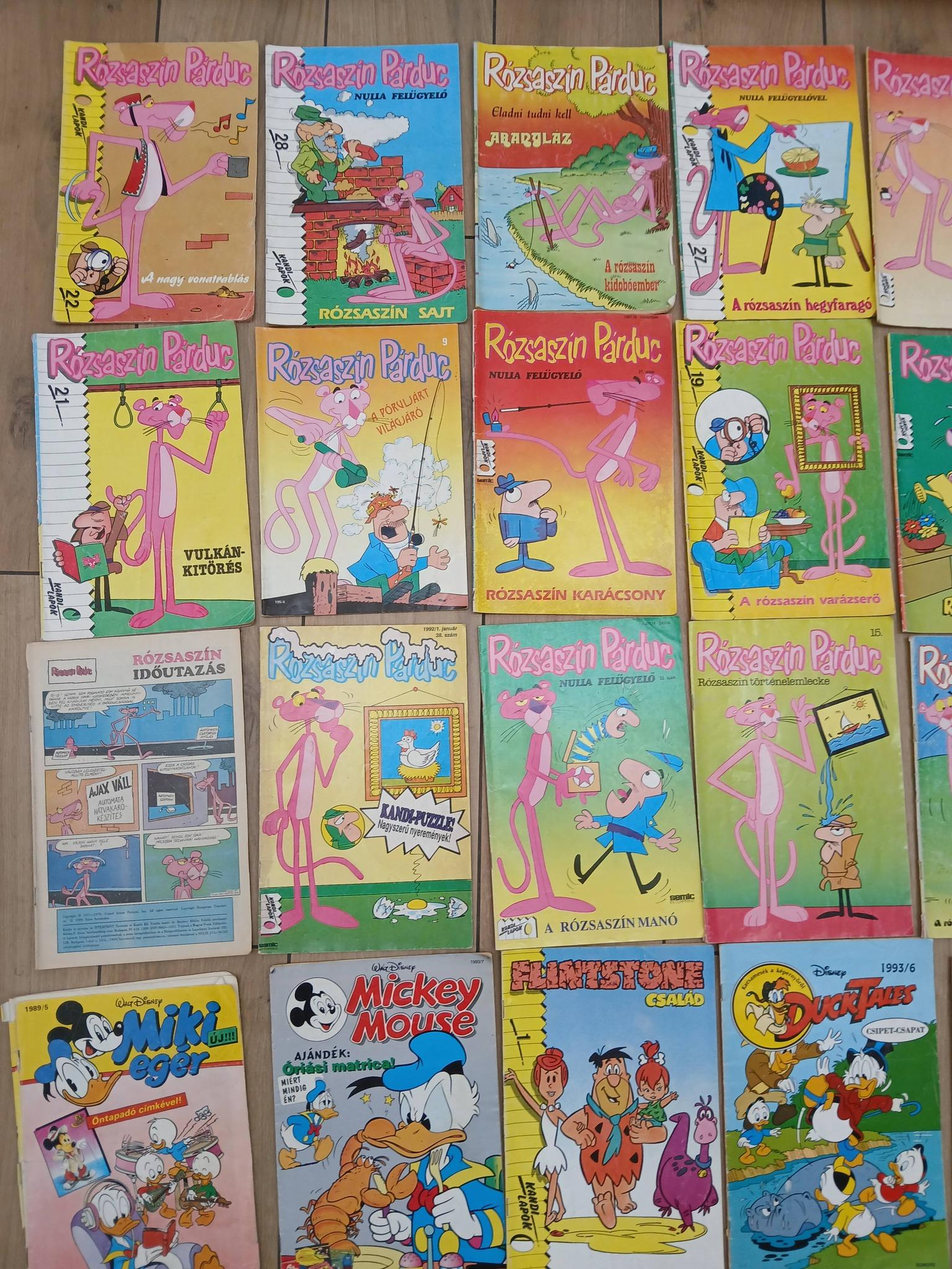comic: (1, 972, 265, 1269), (23, 631, 252, 969), (717, 936, 949, 1269), (686, 608, 913, 948), (476, 613, 704, 950), (269, 949, 506, 1269), (502, 945, 724, 1269), (256, 624, 473, 953), (674, 310, 896, 628), (34, 323, 255, 641), (256, 323, 470, 618), (474, 309, 676, 615), (669, 32, 876, 327), (53, 37, 259, 328), (263, 43, 466, 326), (474, 41, 676, 314)
